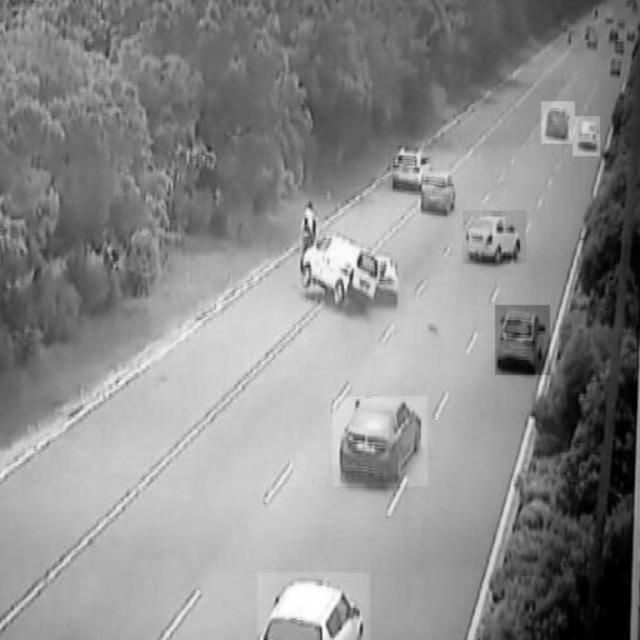accident: (298, 231, 402, 312)
vehicle: (333, 397, 427, 487), (257, 573, 369, 640), (495, 305, 551, 375), (462, 210, 526, 264), (389, 145, 434, 191), (417, 171, 455, 217), (541, 102, 575, 144), (573, 117, 600, 157)
